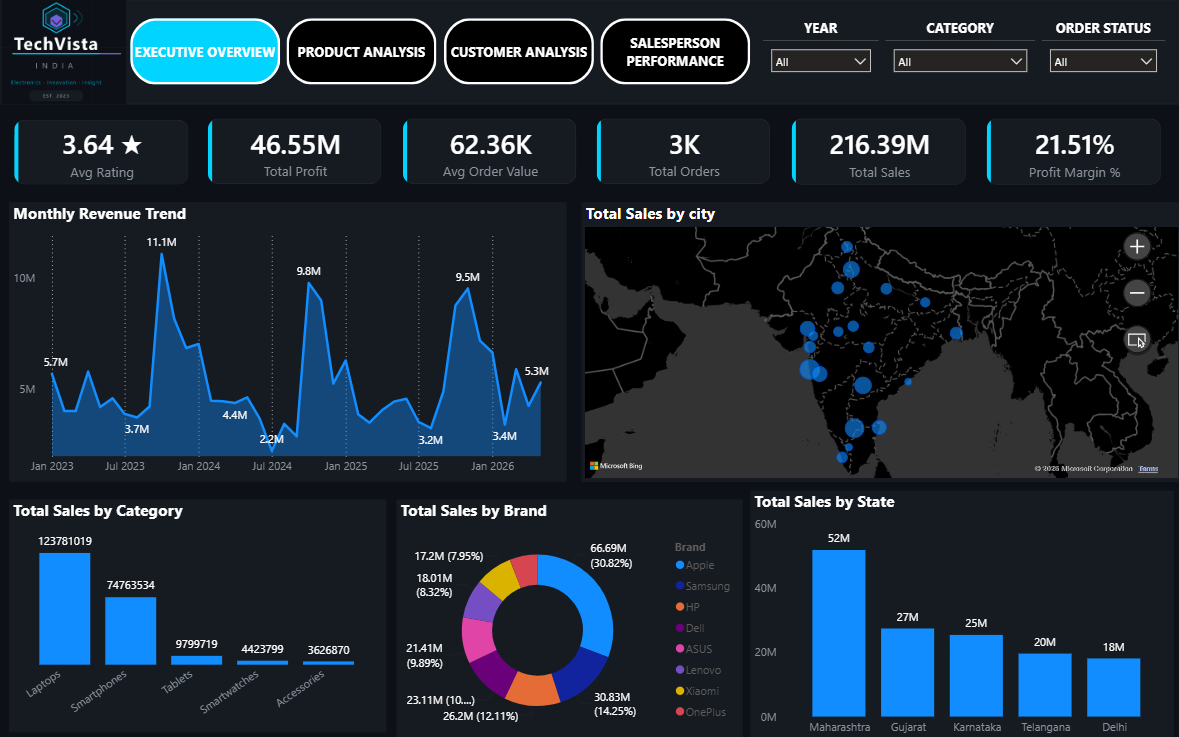

The dashboard page shown, as its layout file describes it:
{"tool":"powerbi","page":{"name":"Executive","canvas":[1440,900],"ordinal":0},"visuals":[{"type":"cardVisual","fields":{"Data":["fact_sales.Total Orders"]},"box":[728.9,142.5,219.6,89.3],"z":0},{"type":"cardVisual","fields":{"Data":["fact_sales.Total Sales"]},"box":[963.3,141.9,220.2,90.5],"z":1000},{"type":"cardVisual","fields":{"Data":["fact_sales.Total Profit"]},"box":[260,142.5,219.6,89.3],"z":2000},{"type":"cardVisual","fields":{"Data":["fact_sales.Avg Rating Display"]},"box":[25,142.6,220.2,89],"z":3000},{"type":"cardVisual","fields":{"Data":["fact_sales.Avg Order Value"]},"box":[494.5,142.5,219.6,89.3],"z":4000},{"type":"cardVisual","fields":{"Data":["fact_sales.Profit Margin %"]},"box":[1198.3,141.9,220.2,90.5],"z":5000},{"type":"areaChart","title":"Monthly Revenue Trend","fields":{"Category":["Date_Table.Date.Variation.Date Hierarchy.Year","Date_Table.Date.Variation.Date Hierarchy.Month"],"Y":["fact_sales.Total Sales"]},"box":[24.1,247.3,672.6,337.8],"z":6000},{"type":"clusteredColumnChart","title":"Total Sales by Category","fields":{"Category":["dim_products.category"],"Y":["fact_sales.Total Sales"]},"box":[24.1,606.2,455.4,280.5],"z":7000},{"type":"donutChart","fields":{"Category":["dim_products.brand"],"Y":["fact_sales.Total Sales"]},"box":[491.6,606.2,417.7,291.1],"z":8000},{"type":"map","fields":{"Category":["dim_customers.city"],"Size":["fact_sales.Total Sales"]},"box":[714.8,247.3,725.4,337.8],"z":9000},{"type":"clusteredColumnChart","title":"Total Sales by State","fields":{"Y":["fact_sales.Total Sales"],"Category":["dim_customers.state"]},"box":[918.4,595.7,511.2,304.6],"z":10000},{"type":"shape","box":[0,3,1440.2,126.7],"z":11000},{"type":"image","box":[1.5,0,177.9,129.7],"z":12000},{"type":"slicer","title":"YEAR","fields":{"Values":["Date_Table.Year"]},"box":[933.5,26.1,140.2,79.9],"z":13000},{"type":"slicer","title":"CATEGORY","fields":{"Values":["dim_products.category"]},"box":[1081.3,26.1,181,79.9],"z":14000},{"type":"slicer","title":"ORDER STATUS","fields":{"Values":["fact_sales.order_status"]},"box":[1269.8,26.1,149.3,79.9],"z":15000},{"type":"actionButton","box":[170.2,24.9,181,79.9],"z":16000},{"type":"actionButton","box":[359.2,24.9,181,79.9],"z":17000},{"type":"actionButton","box":[548.2,24.9,181,79.9],"z":18000},{"type":"actionButton","box":[737.2,24.9,181,79.9],"z":19000}]}

Visuals, with their boxes in screenshot pixels (x1, y1, x2, y2), scaled from the page's 1440x900 canvas onto the 1179x737 screenshot:
cardVisual - fact_sales.Total Orders: l=597, t=117, r=777, b=190
cardVisual - fact_sales.Total Sales: l=789, t=116, r=969, b=190
cardVisual - fact_sales.Total Profit: l=213, t=117, r=393, b=190
cardVisual - fact_sales.Avg Rating Display: l=20, t=117, r=201, b=190
cardVisual - fact_sales.Avg Order Value: l=405, t=117, r=585, b=190
cardVisual - fact_sales.Profit Margin %: l=981, t=116, r=1161, b=190
"Monthly Revenue Trend" areaChart: l=20, t=203, r=570, b=479
"Total Sales by Category" clusteredColumnChart: l=20, t=496, r=393, b=726
donutChart - dim_products.brand x fact_sales.Total Sales: l=402, t=496, r=744, b=735
map - dim_customers.city x fact_sales.Total Sales: l=585, t=203, r=1178, b=479
"Total Sales by State" clusteredColumnChart: l=752, t=488, r=1170, b=736
shape: l=0, t=2, r=1178, b=106
image: l=1, t=0, r=147, b=106
"YEAR" slicer: l=764, t=21, r=879, b=87
"CATEGORY" slicer: l=885, t=21, r=1034, b=87
"ORDER STATUS" slicer: l=1040, t=21, r=1162, b=87
actionButton: l=139, t=20, r=288, b=86
actionButton: l=294, t=20, r=442, b=86
actionButton: l=449, t=20, r=597, b=86
actionButton: l=604, t=20, r=752, b=86
